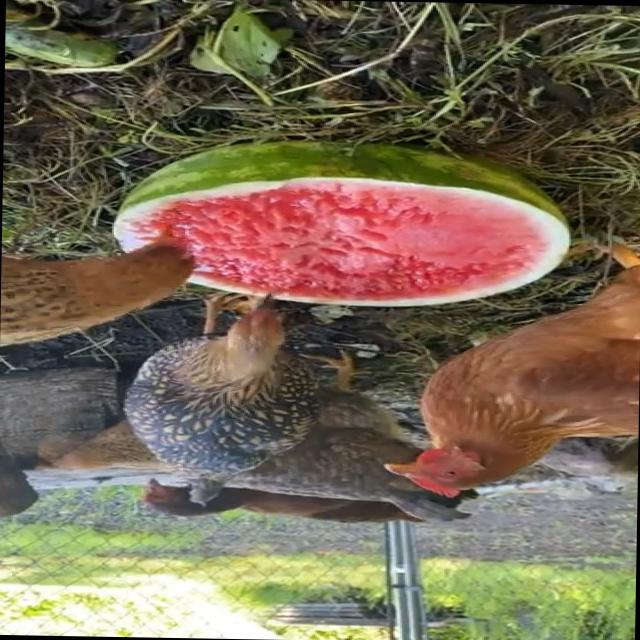feeding: (359, 246, 640, 499), (96, 290, 356, 500), (0, 256, 143, 341)
